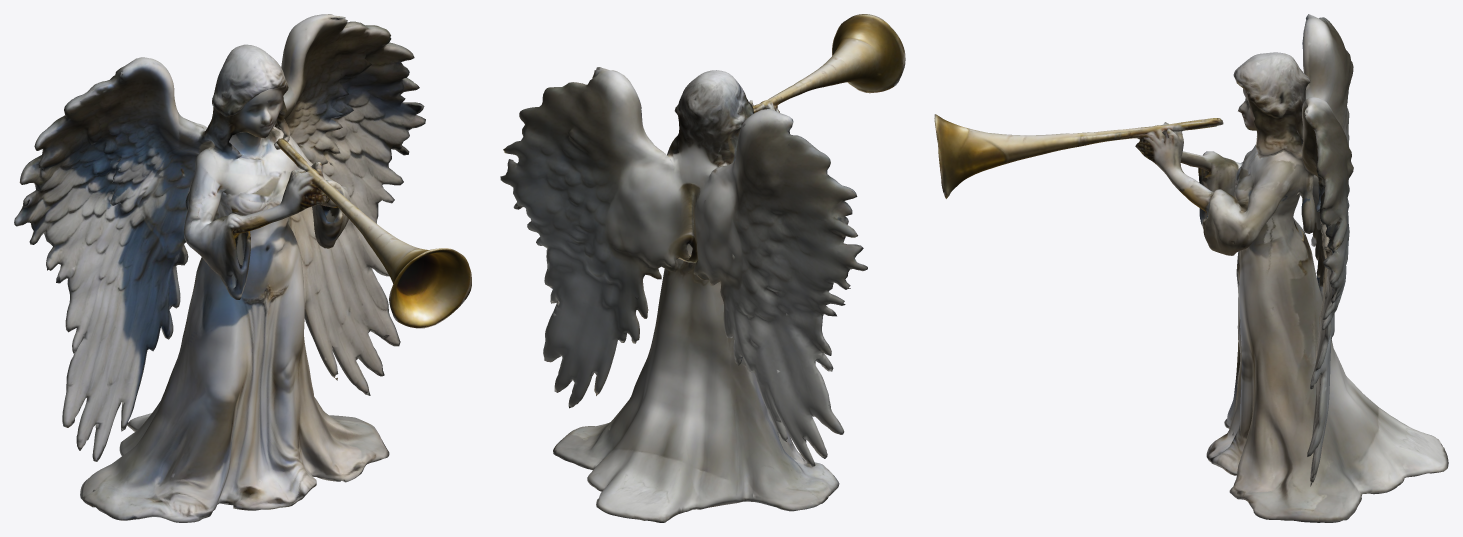
File: judgement.glb
3 renders of one model, left to right at view 1: azimuth 30°, elevation 25°; view 2: azimuth 150°, elevation 25°; view 3: azimuth 270°, elevation 25°, orthographic. The views are drawn at different scales.
Bounding box in the file's own units: 1.72 × 1.73 × 2.
Materials: 1 (1 with a texture image).
